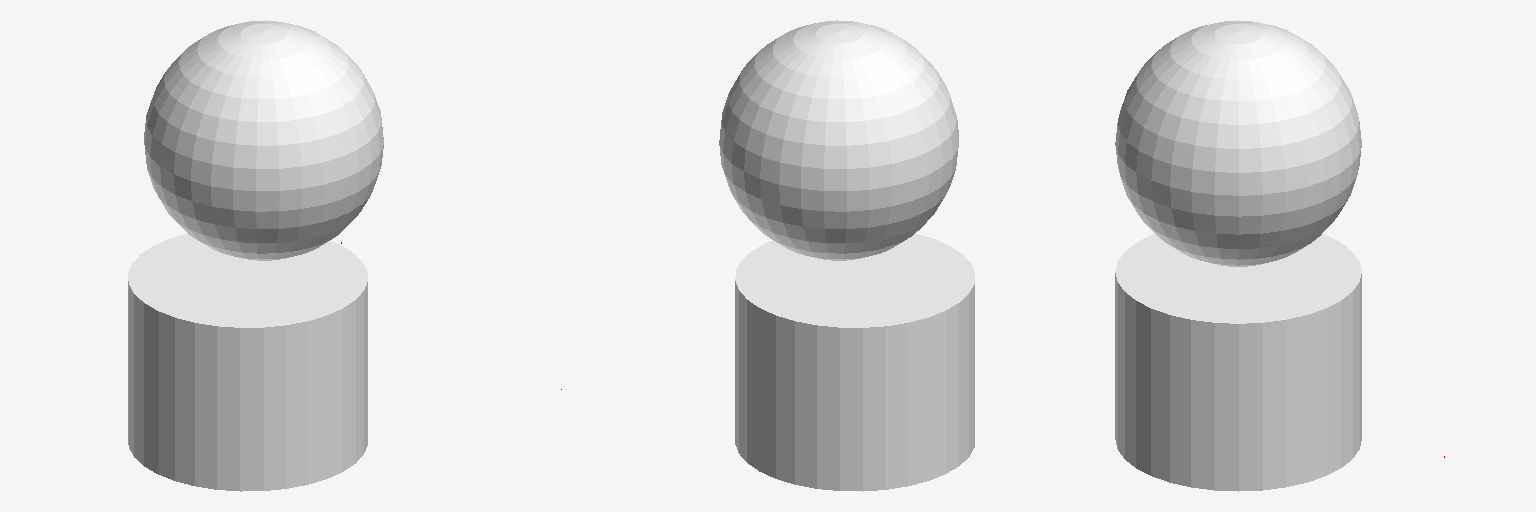
URDF robot description (mira):
<?xml version="1.0"?>
<robot name="mira">
    <material name="green">
        <color rgba="0 0.8 0 1"/>
    </material>
    <material name="red">
        <color rgba="0.8 0 0 1"/>
    </material>
    <material name="blue">
        <color rgba="0 0 0.8 1"/>
    </material>
    <material name="white">
        <color rgba="1 1 1 1"/>
    </material>

    <link name="base_link">
        <visual>
        <origin rpy="0 0 0" xyz="0 0 0"/>
        <geometry>
            <cylinder radius="0.06" length="0.09"/>
        </geometry>
        <material name="white"/>
        </visual>
    </link>
  
    <link name="roll_M1_link">
        <visual>
            <origin rpy="0 0 0" xyz="0 0 0.12"/>
            <geometry>
                <cylinder radius="0.005" length="0.01"/>
            </geometry>
            <material name="red"/>
        </visual>
    </link>

    <link name="pitch_M2_link">
        <visual>
            <origin rpy="0 0 0" xyz="0 0 0.12"/>
            <geometry>
                <cylinder radius="0.005" length="0.01"/>
            </geometry>
            <material name="green"/>
        </visual>
    </link>

    <link name="yaw_M3_link">
        <visual>
            <origin rpy="0 0 0" xyz="0 0 0.12"/>
            <geometry>
                <cylinder radius="0.005" length="0.01"/>
            </geometry>
            <material name="blue"/>
        </visual>
    </link>

    <link name="head_link">
        <visual>
            <origin rpy="0 0 0" xyz="0 0 0.12"/>
            <geometry>
                <sphere radius="0.06"/>
            </geometry>
            <material name="white"/>
        </visual>
    </link>

    <link name="left_eye_link">
        <visual>
            <origin rpy="0 0 0" xyz="0 0 0"/>
            <geometry>
                <cylinder radius="0.00525" length="0.00525"/>
            </geometry>
            <material name="green"/>
        </visual>
    </link>

    <link name="right_eye_link">
        <visual>
            <origin rpy="0 0 0" xyz="0 0 0"/>
            <geometry>
                <cylinder radius="0.00525" length="0.00525"/>
            </geometry>
            <material name="blue"/>
        </visual>
    </link>

    <link name="camera_link">
        <visual>
            <origin rpy="0 0 0" xyz="0.1 0.1 0"/>
            <geometry>
                <box size="0.0005 0.0005 0.0005"/>
            </geometry>
            <material name="red"/>
        </visual>
    </link>

    <joint name="roll_joint" type="revolute">
        <parent link="base_link"/>
        <child link="roll_M1_link"/>
        <origin xyz="0.0023 0 -0.0005" rpy="0 0 0"/>
        <limit lower="-0.2" upper="0.2" effort="0.1" velocity="0.005"/>
        <axis xyz="1 0 0"/>
    </joint>

    <joint name="pitch_joint" type="revolute">
        <parent link="roll_M1_link"/>
        <child link="pitch_M2_link"/>
        <origin xyz="0.0023 0 -0.0005" rpy="0 0 0"/>
        <limit lower="-0.2" upper="0.2" effort="0.1" velocity="0.005"/>
        <axis xyz="0 1 0"/>
    </joint>

    <joint name="yaw_joint" type="revolute">
        <parent link="pitch_M2_link"/>
        <child link="yaw_M3_link"/>
        <origin xyz="0.0023 0 -0.0005" rpy="0 0 0"/>
        <limit lower="-0.2" upper="0.2" effort="0.1" velocity="0.005"/>
        <axis xyz="0 0 1"/>
    </joint>

        <joint name="base_head_joint" type="fixed">
        <parent link="yaw_M3_link"/>
        <child link="head_link"/>
        <origin xyz="0.0023 0 -0.0005" rpy="0 0 0"/>
    </joint>

    <joint name="head_lefteye_joint" type="fixed">
        <parent link="head_link"/>
        <child link="left_eye_link"/>
        <origin xyz="0.0023 0 -0.0005" rpy="0 0 0"/>
    </joint>

    <joint name="head_righteye_joint" type="fixed">
        <parent link="head_link"/>
        <child link="right_eye_link"/>
        <origin xyz="0.0023 0 -0.0005" rpy="0 0 0"/>
    </joint>

    <joint name="head_camera_joint" type="fixed">
        <parent link="head_link"/>
        <child link="camera_link"/>
        <origin xyz="0.0023 0 -0.0005" rpy="0 0 0"/>
    </joint>
  
</robot>

--- Render facts (derived) ---
Views: 3 orthographic renders of the robot side by side, from view 1: azimuth 30°, elevation 25°; view 2: azimuth 150°, elevation 25°; view 3: azimuth 270°, elevation 25°.
Robot: mira — 8 links, 7 joints (3 revolute, 4 fixed); root link base_link; default pose: every joint at zero.
Visible links, largest first — view 1: base_link, head_link; view 2: base_link, head_link; view 3: base_link, head_link.
Link boxes in pixels (left/top/right/bottom): base_link: left=128, top=233, right=367, bottom=491; head_link: left=144, top=20, right=383, bottom=260; base_link: left=735, top=233, right=974, bottom=491; head_link: left=719, top=20, right=958, bottom=260; base_link: left=1115, top=234, right=1361, bottom=491; head_link: left=1115, top=20, right=1361, bottom=266.
Size in the robot's own frame: 0.1717 by 0.1602 by 0.223 metres.
Geometry: primitives only (box / cylinder / sphere), no mesh files.
